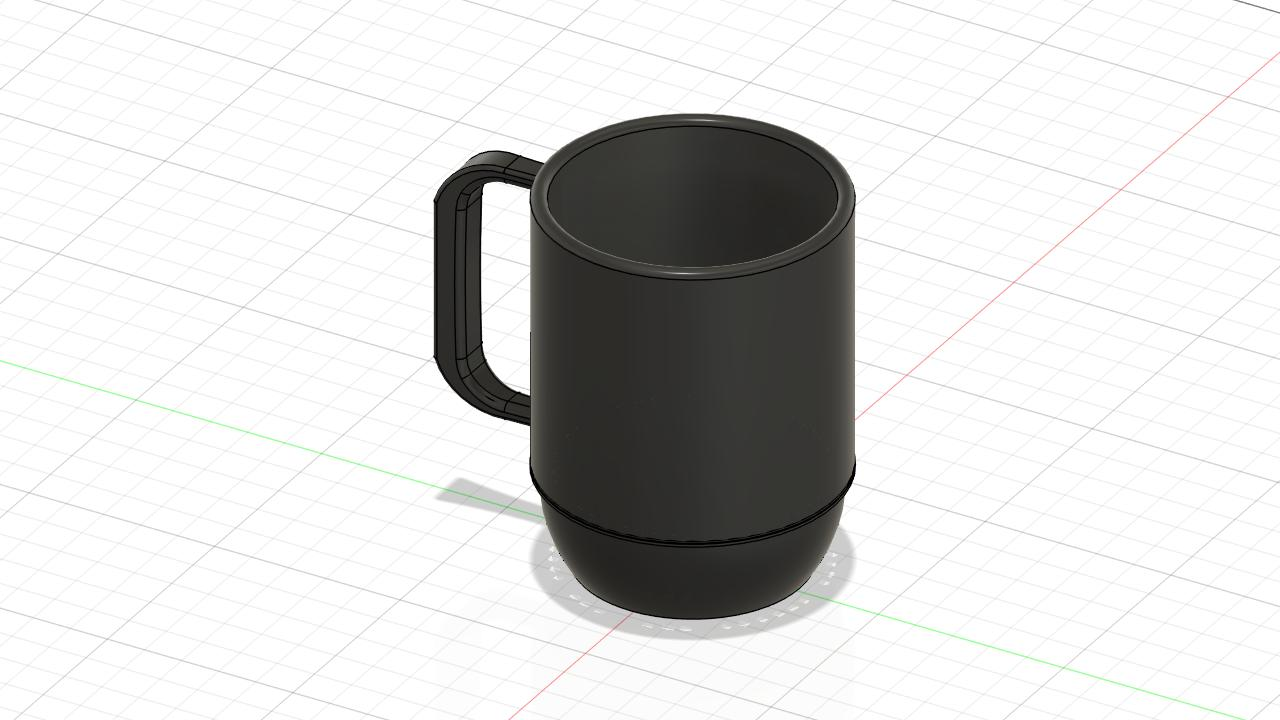mug-real100-3d100: (436, 115, 856, 618)
